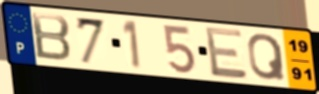1: (121, 19, 143, 72)
5: (161, 22, 198, 75)
7: (73, 15, 109, 65)
B: (29, 11, 74, 64)
E: (202, 25, 250, 80)
Q: (246, 32, 288, 83)
